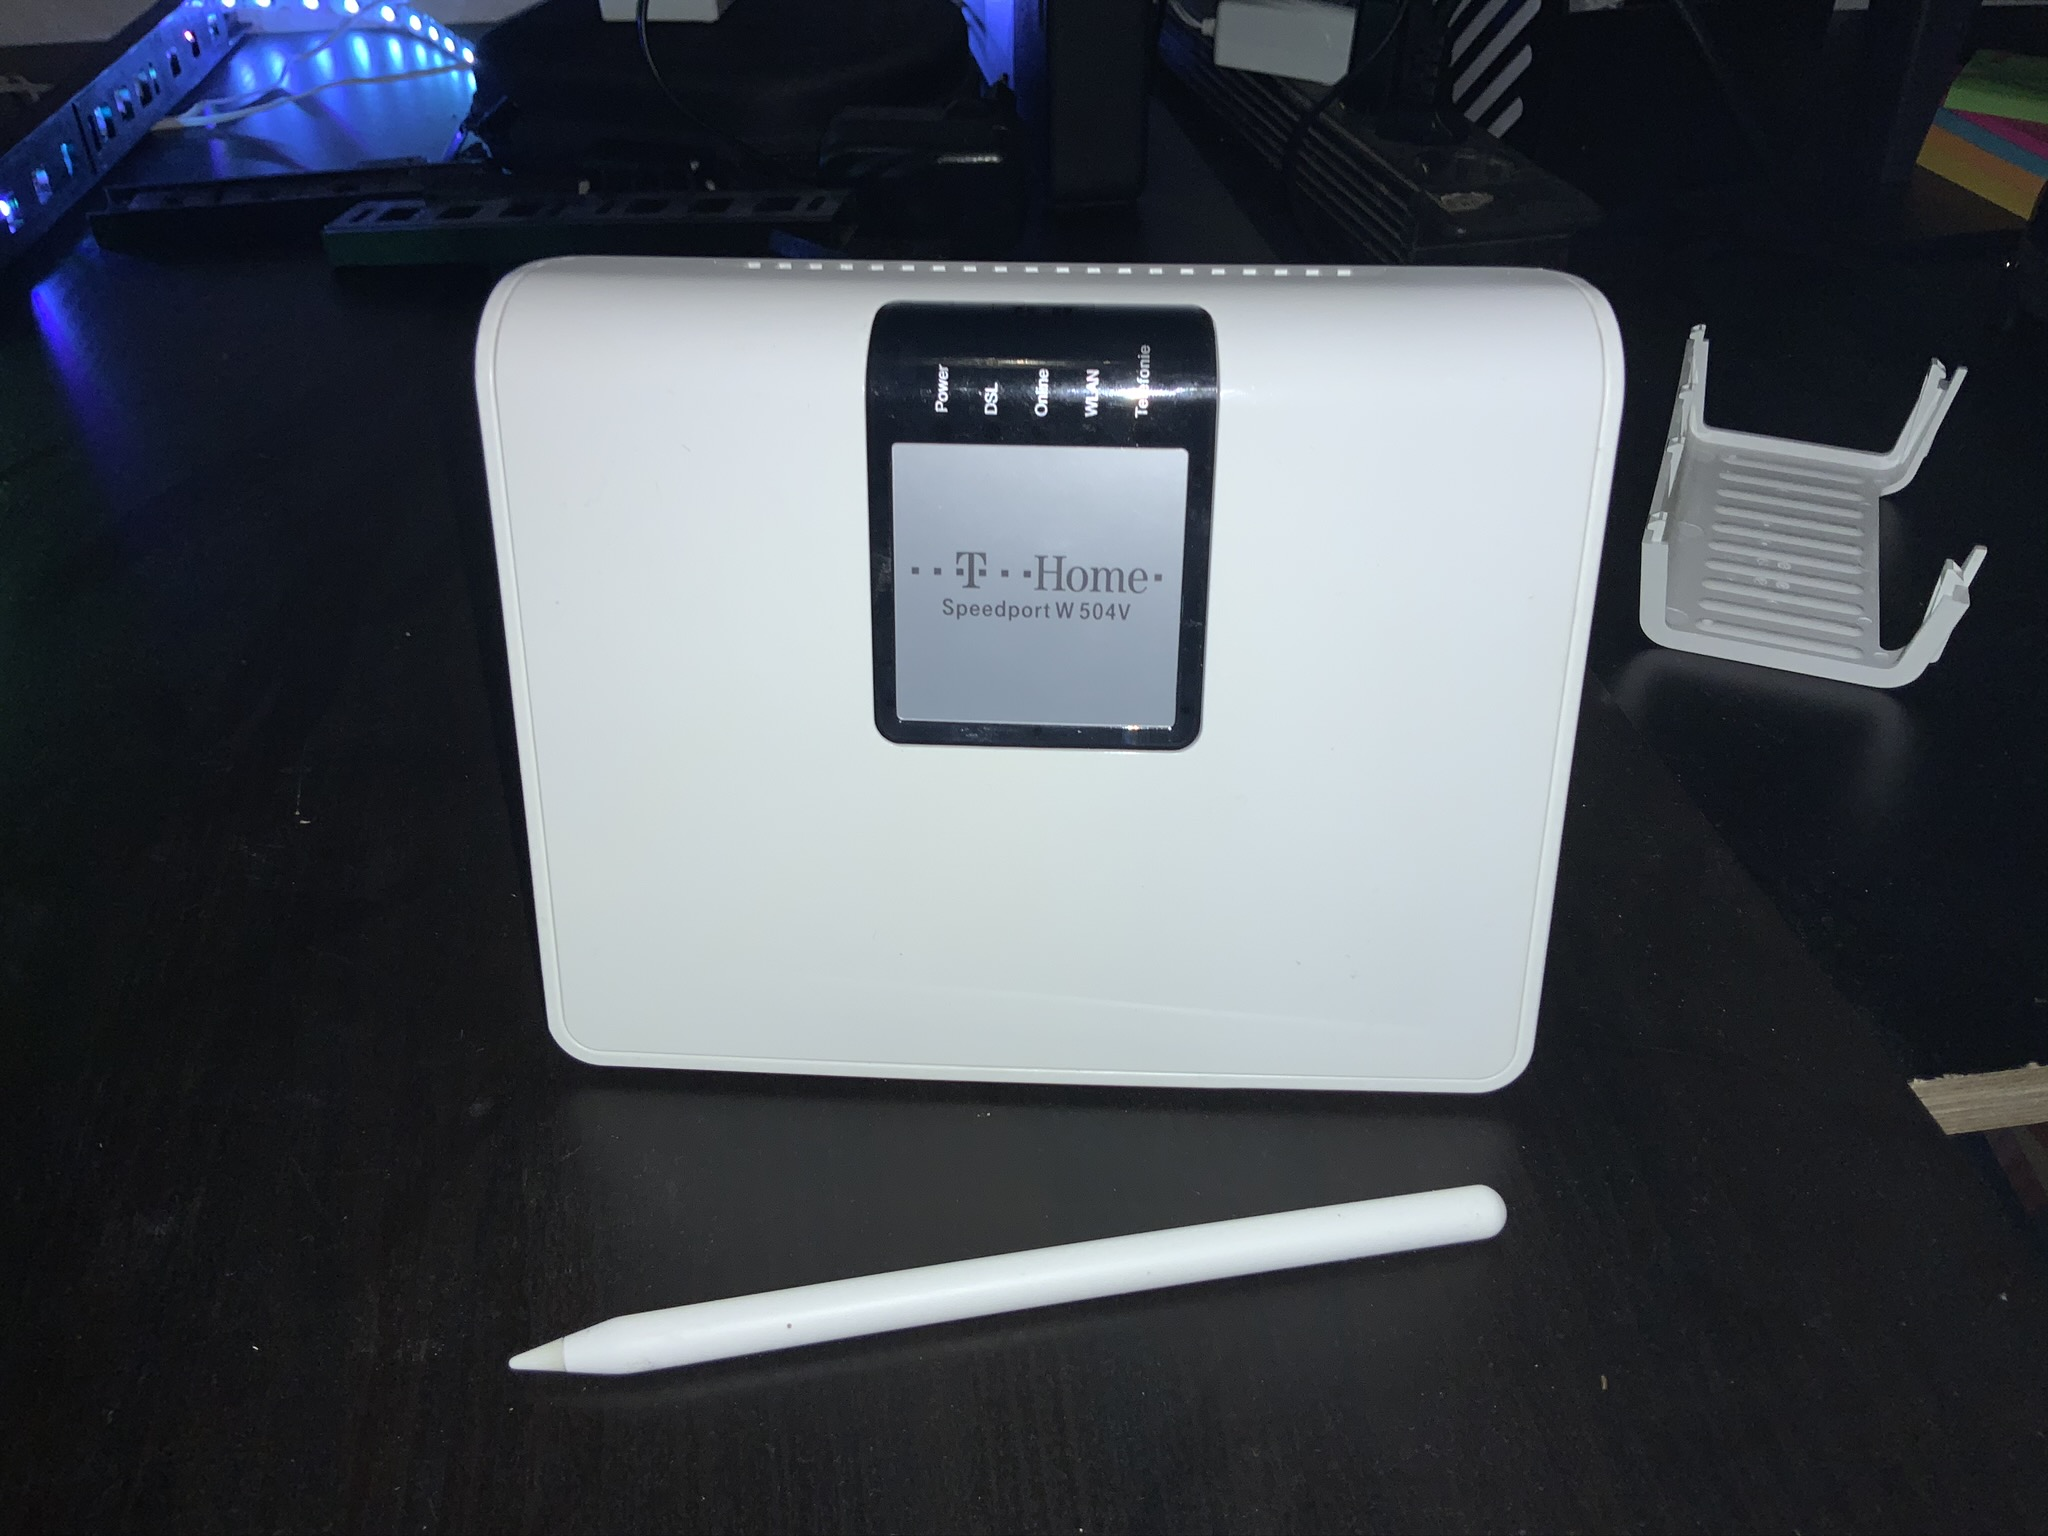Router2: (468, 247, 1637, 1100)
